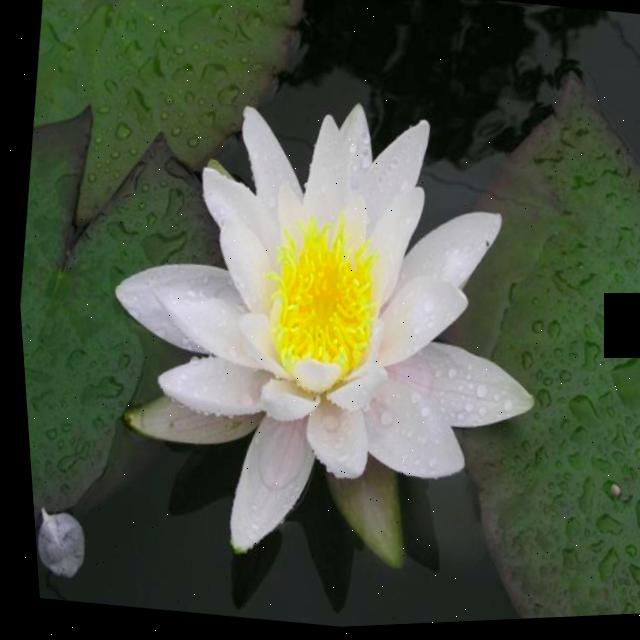rose: (26, 11, 627, 639)
